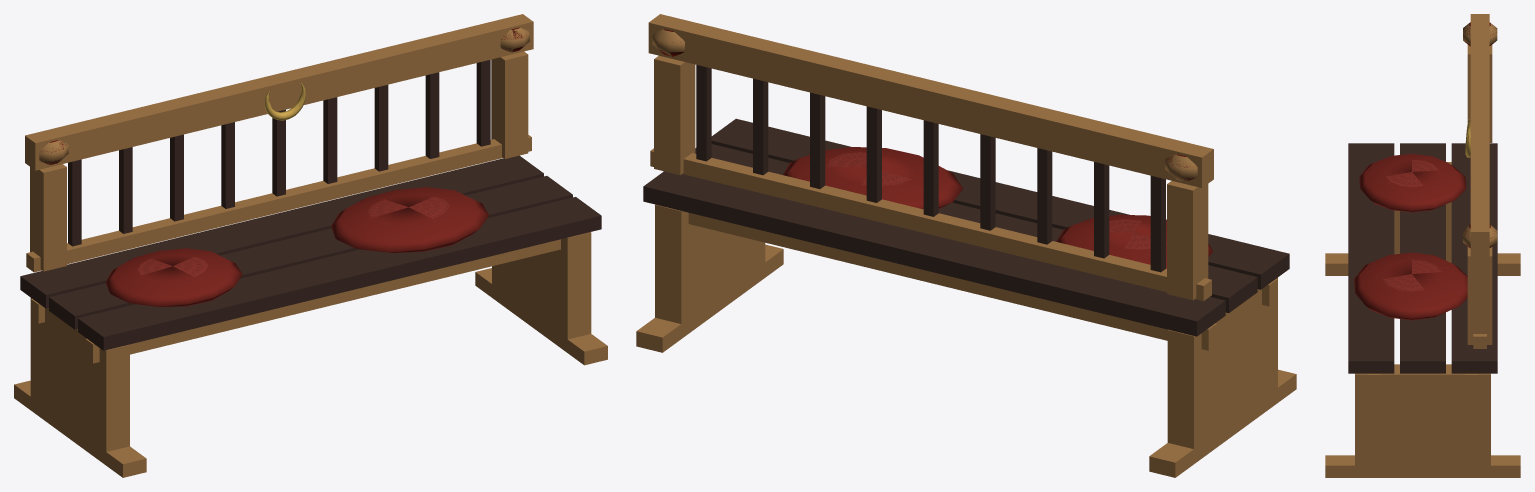
File: prop_bench_wood.gltf
The picture shows the model from 3 angles, left to right: view 1: azimuth 30°, elevation 25°; view 2: azimuth 150°, elevation 25°; view 3: azimuth 270°, elevation 25°; orthographic projection. The views are drawn at different scales.
Visible parts, largest first — view 1: Far, Near; view 2: Far, Near; view 3: Far, Near.
Part boxes in pixels (left/top/right/bottom): Far: left=14, top=14, right=607, bottom=477; Near: left=40, top=27, right=524, bottom=276; Far: left=636, top=14, right=1296, bottom=477; Near: left=659, top=29, right=1196, bottom=249; Far: left=1325, top=14, right=1520, bottom=477; Near: left=1383, top=22, right=1496, bottom=291.
Size of the model in its own units: 1.9 by 1.01 by 0.72.
5 materials, 3 textured.
